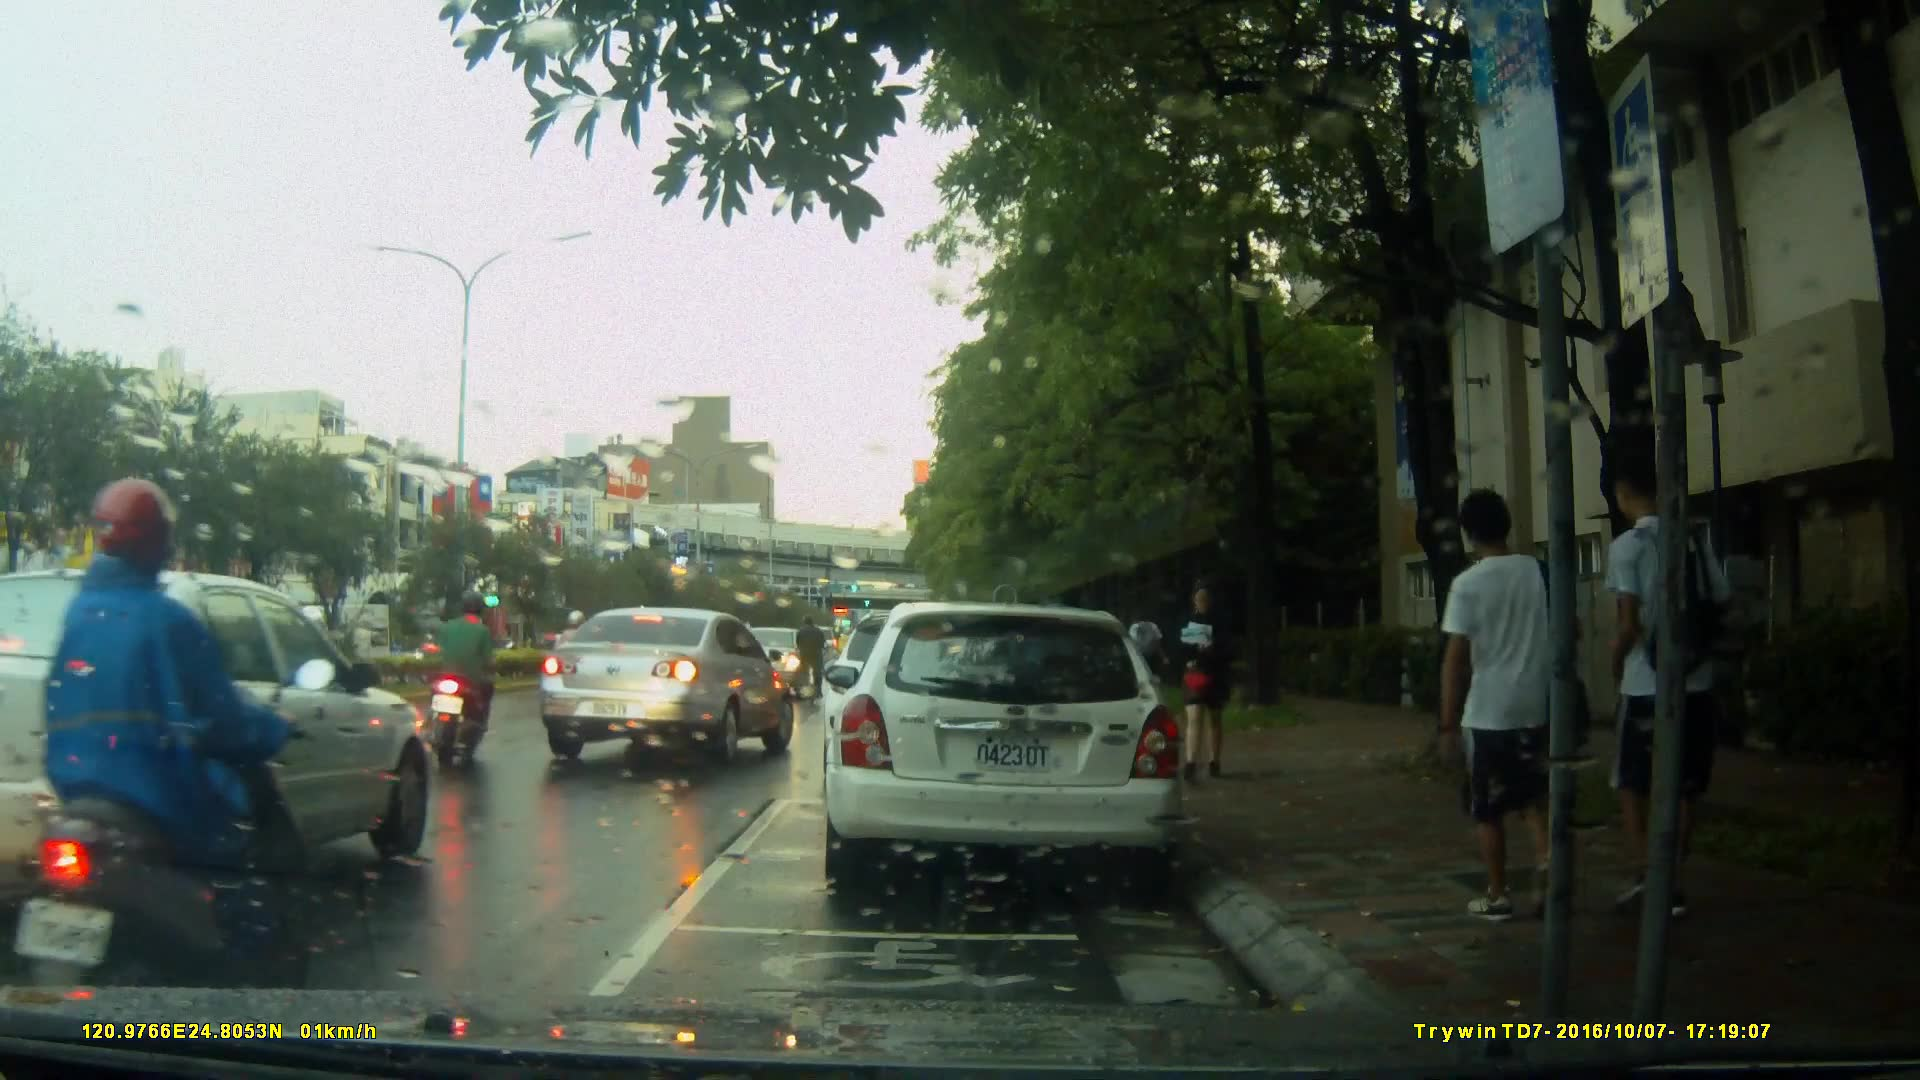pedestrian: (1434, 474, 1595, 933), (1590, 445, 1720, 929), (1173, 567, 1246, 790), (1124, 604, 1166, 732)
rider: (14, 478, 330, 1006), (431, 585, 513, 764), (550, 606, 592, 728), (792, 612, 825, 710)
vehicle: (1, 565, 440, 929), (820, 602, 1188, 898), (535, 605, 800, 769), (719, 627, 823, 699)
